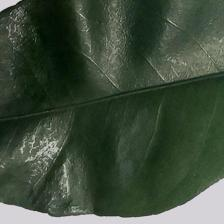healthy: (4, 6, 212, 192)
